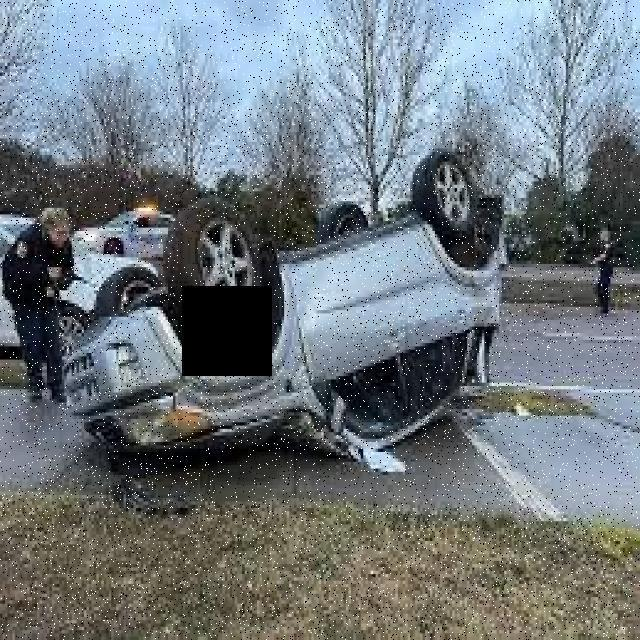accident: (57, 144, 507, 481)
